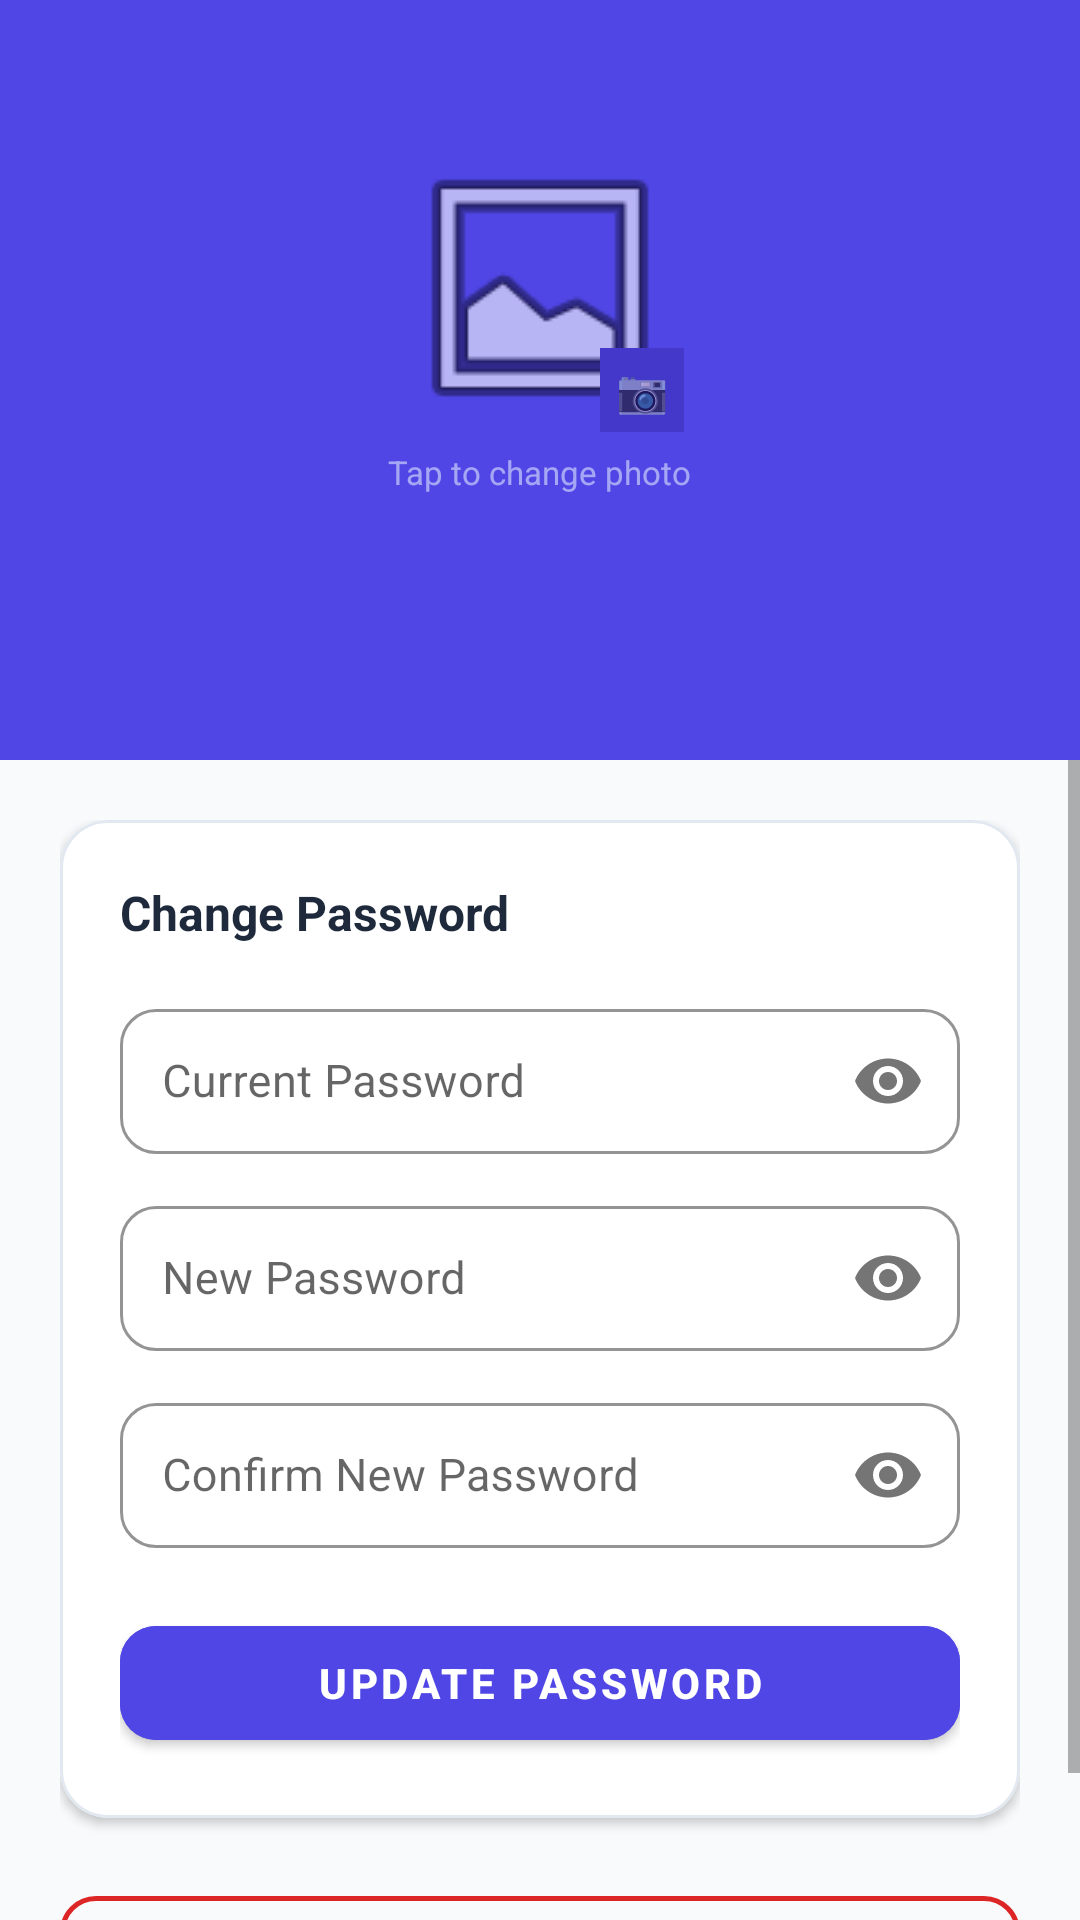

Icons on this 1080×1920 Android screen, each with its box as detection(x1, y1, x2, y2):
gallery: detection(431, 179, 684, 432)
